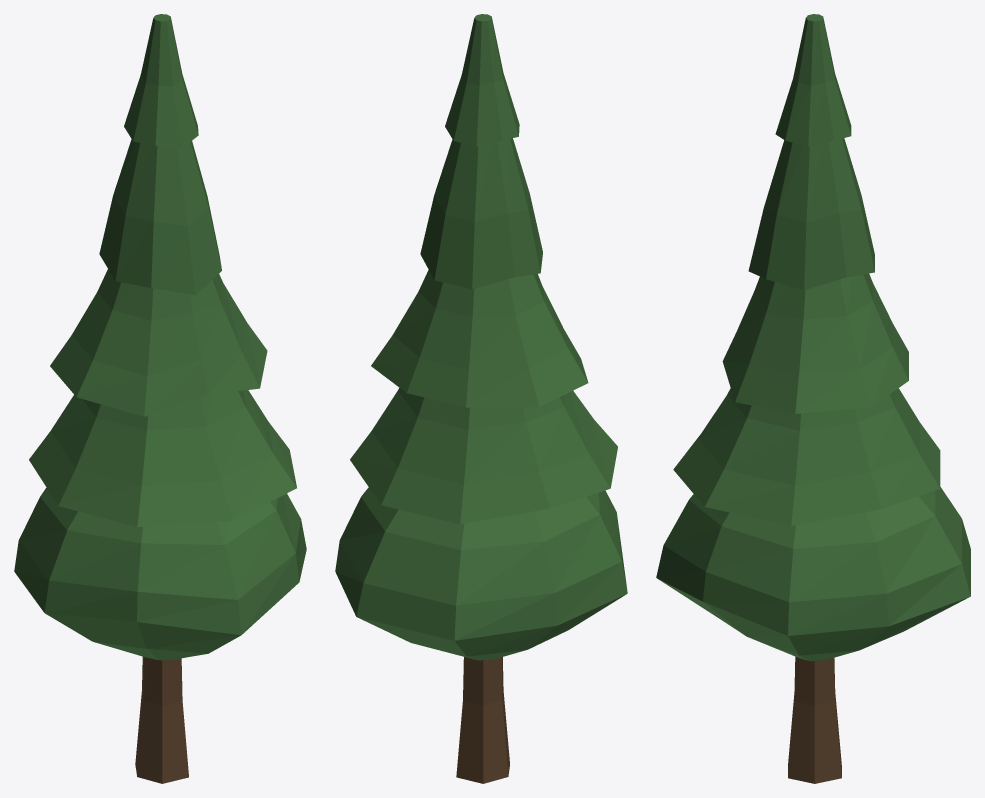
Rendered from columnar-evergreen-shrub-35a00b.glb.
3 views of the same model, side by side, from view 1: azimuth 30°, elevation 25°; view 2: azimuth 150°, elevation 25°; view 3: azimuth 270°, elevation 25° (orthographic).
Parts seen in each view (by area): view 1: crown-mesh, stem; view 2: crown-mesh, stem; view 3: crown-mesh, stem.
Part boxes in pixels (x1,y1,x2,y2): crown-mesh: [14, 14, 306, 660]; stem: [135, 656, 188, 783]; crown-mesh: [335, 14, 627, 660]; stem: [456, 657, 509, 783]; crown-mesh: [656, 14, 970, 661]; stem: [788, 656, 841, 783].
Size of the model in its own units: 0.8745 by 2.4 by 0.9078.
